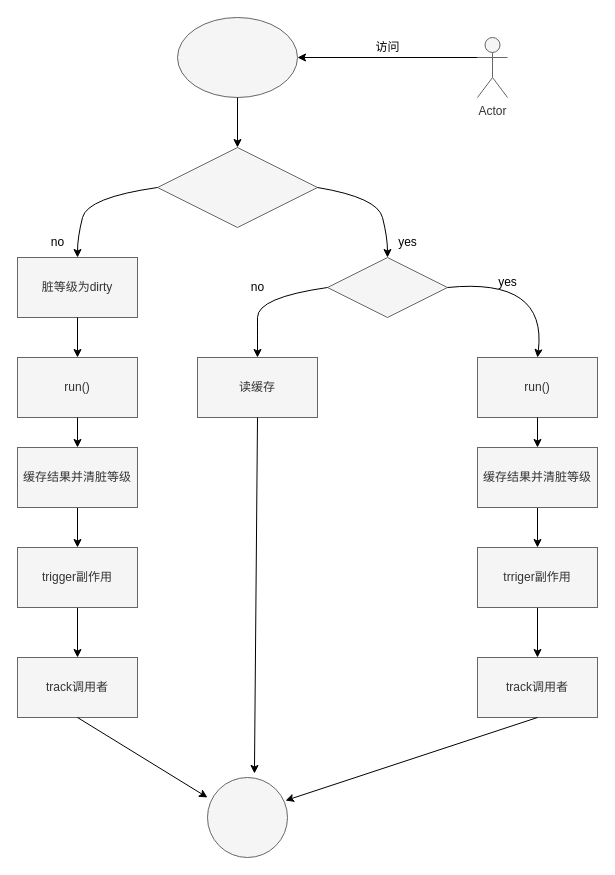
Image size: 615x875. Some labels were removed from this diagram. Here are the shapes that lost their labels. From the top down, the centre of each, then its label:
[237,57]: computed0
[237,187]: 初始化？
[387,287]: 脏等级为dirty?
[247,817]: 返回数据
